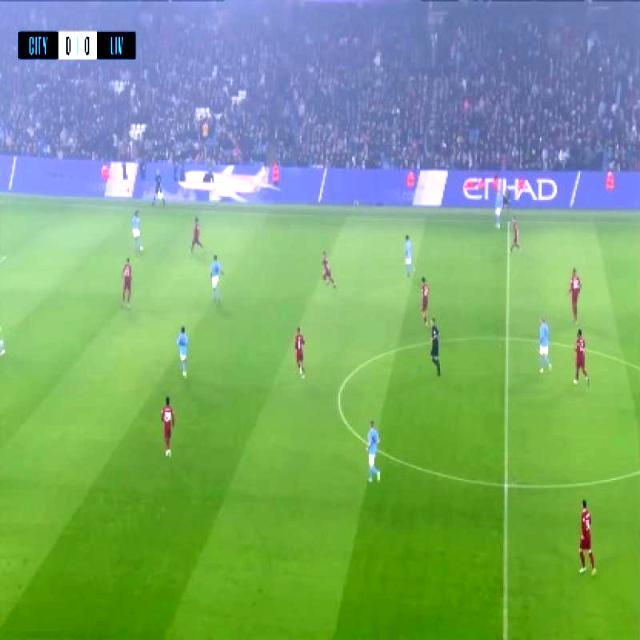bigarea_top_inner: (0, 243, 15, 269)
halfcircle_bottom: (492, 468, 518, 500)
halfcircle_top: (497, 326, 515, 349)
midline_top_intersection: (503, 210, 517, 228)
